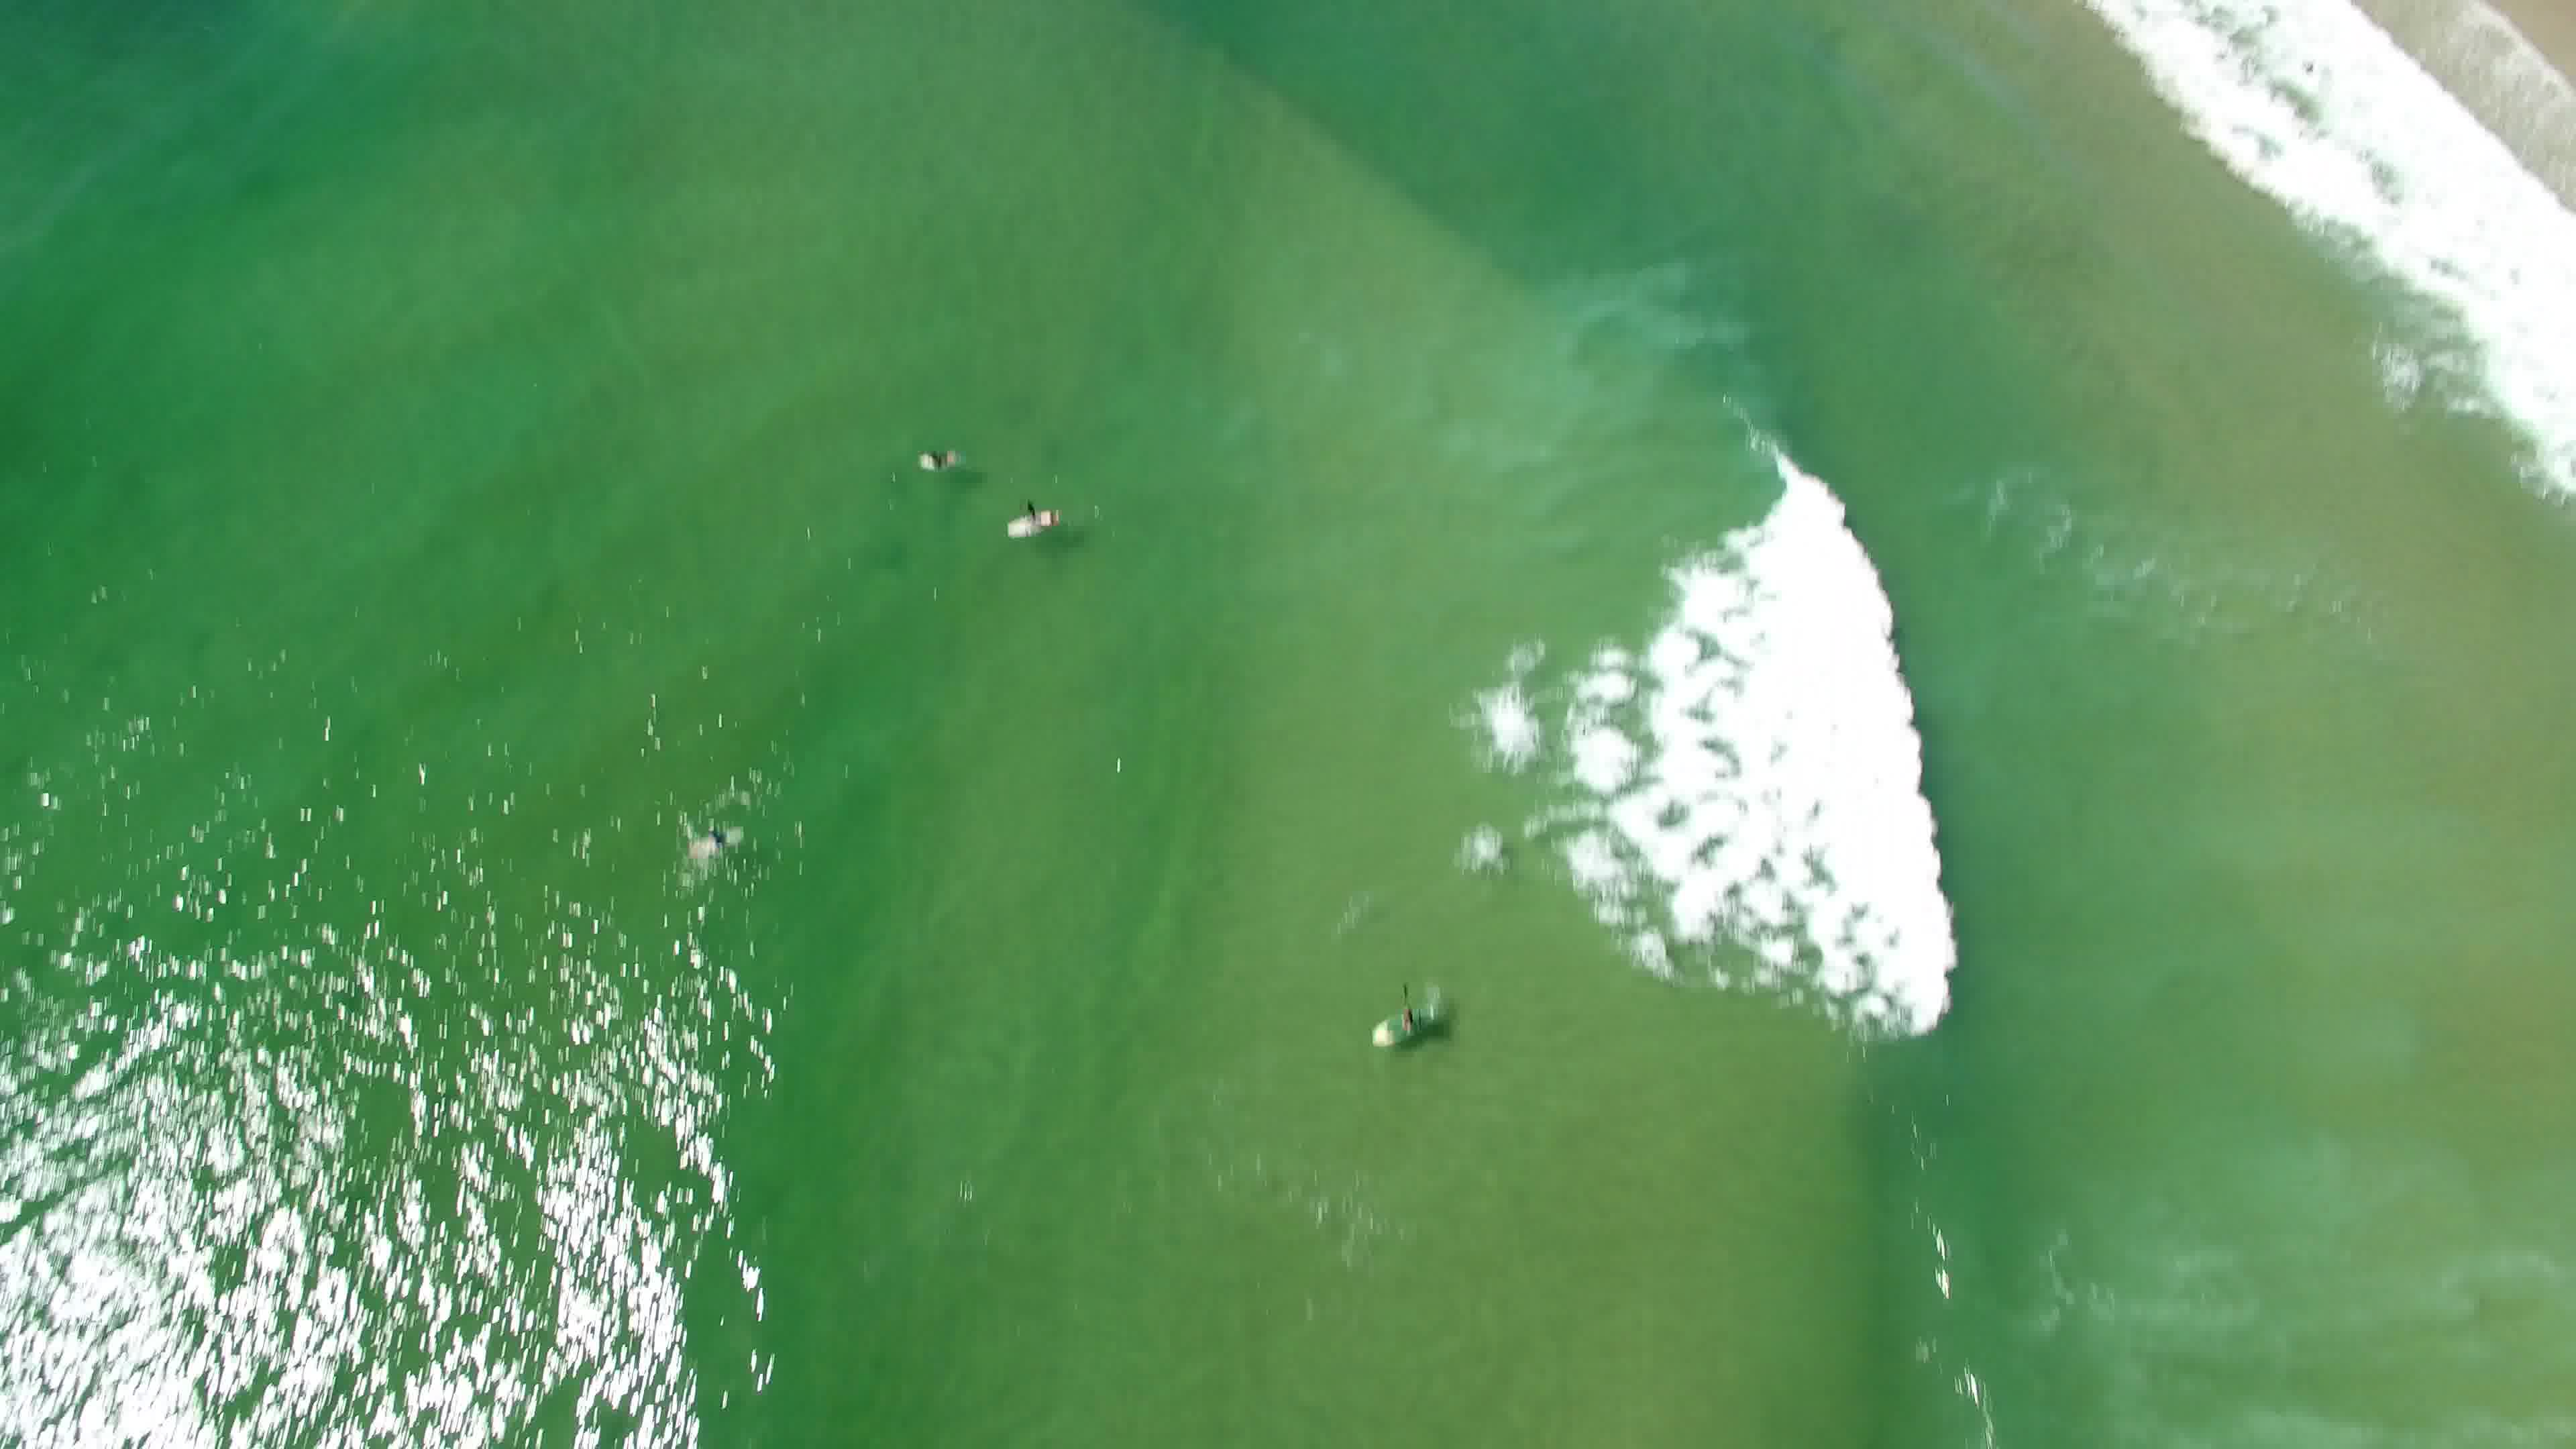surfer: (1357, 985, 1451, 1058), (688, 805, 757, 865), (1001, 499, 1067, 545), (911, 439, 966, 478)
